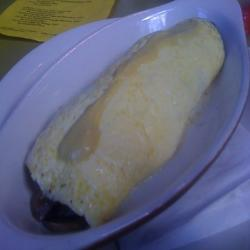omelette: (29, 18, 231, 235)
